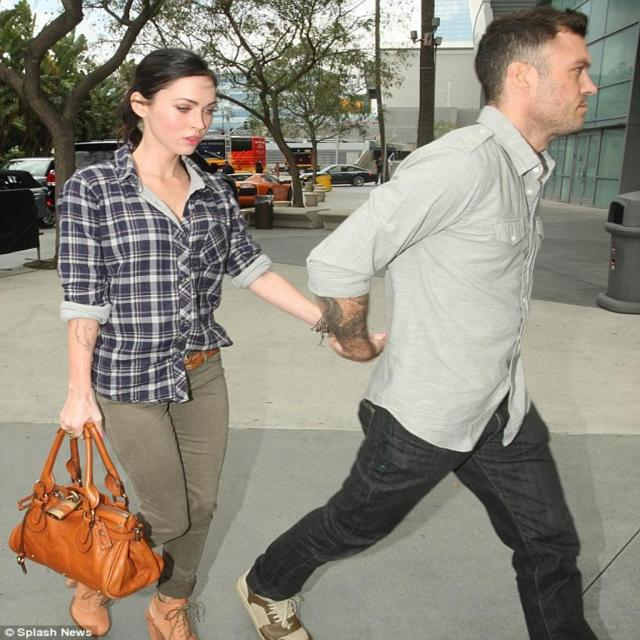Face: (537, 28, 600, 133), (150, 69, 213, 161)
